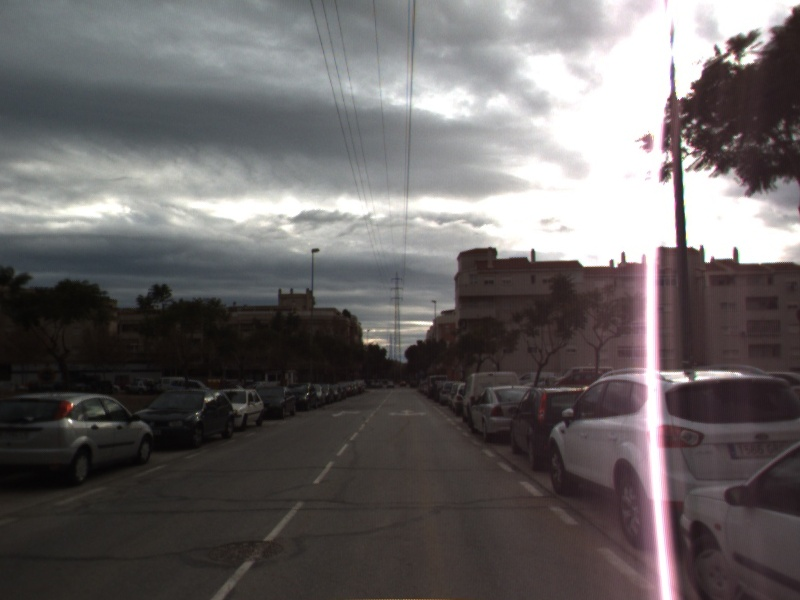STRAIGHT_LEFT_RIGHT: (386, 407, 429, 420)
